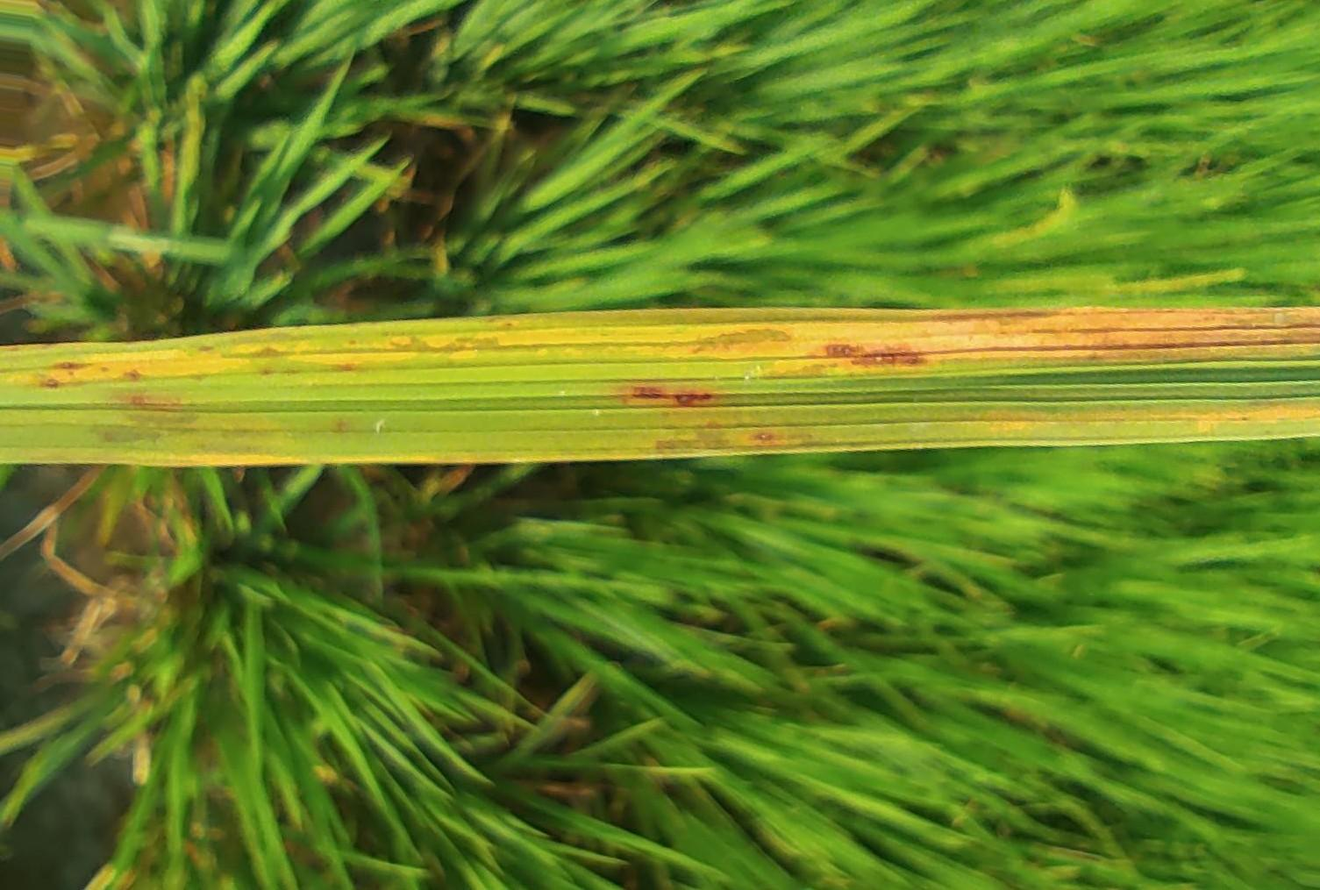NBS: (849, 349, 929, 365), (632, 384, 670, 400), (330, 413, 352, 434), (676, 393, 714, 405), (258, 363, 279, 376), (280, 366, 304, 374)
